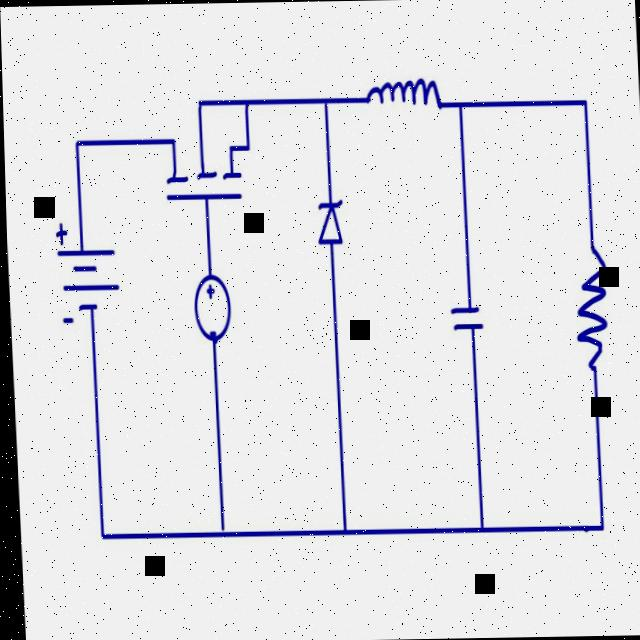capacitor: (436, 282, 491, 358)
diode: (298, 180, 358, 272)
inductor: (354, 58, 446, 140)
mosfet: (122, 66, 275, 225)
resistor: (555, 216, 618, 381)
source: (38, 208, 127, 345), (176, 256, 239, 351)
